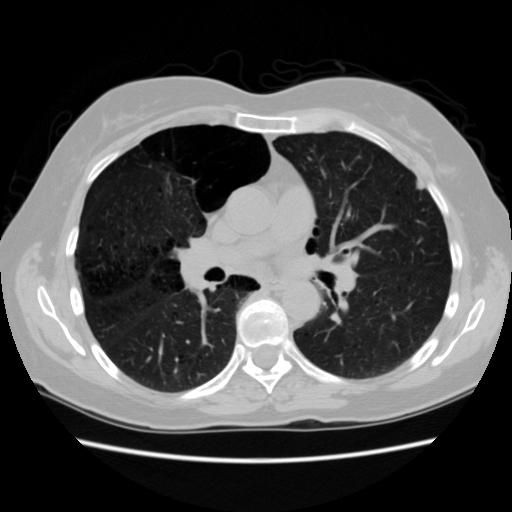nodule: (412, 178, 426, 192)
